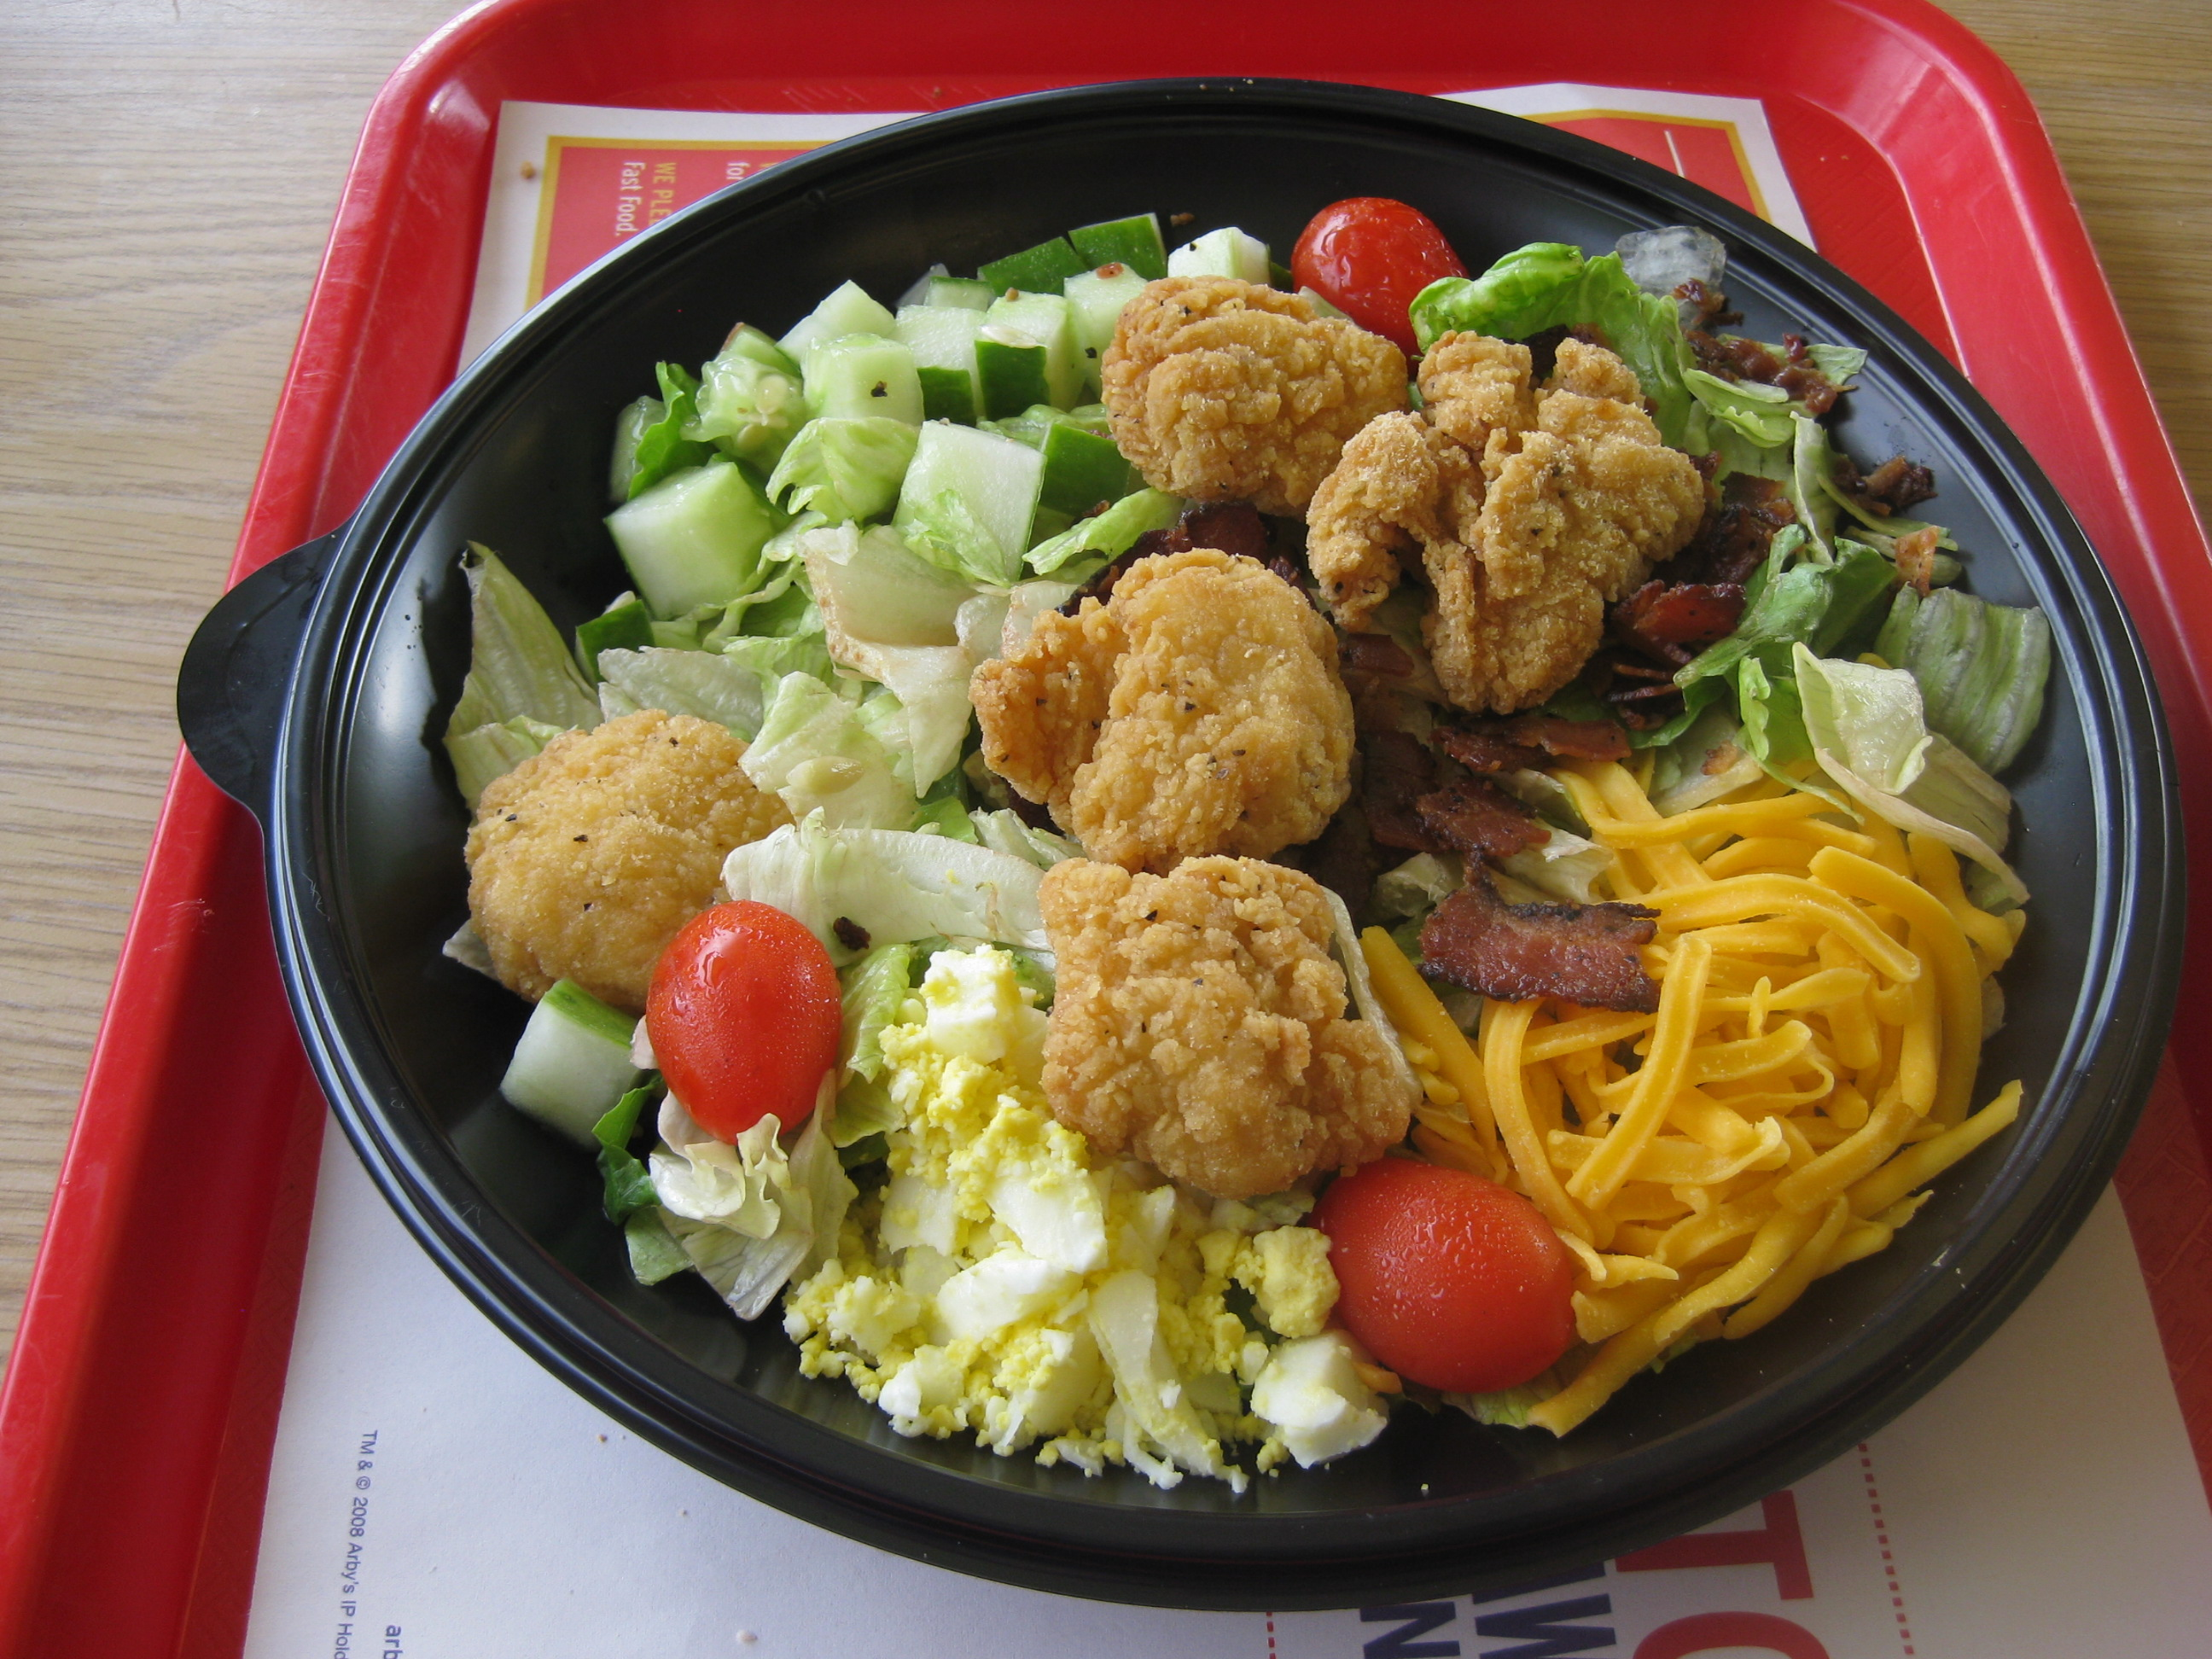salad: (294, 70, 2107, 1565)
